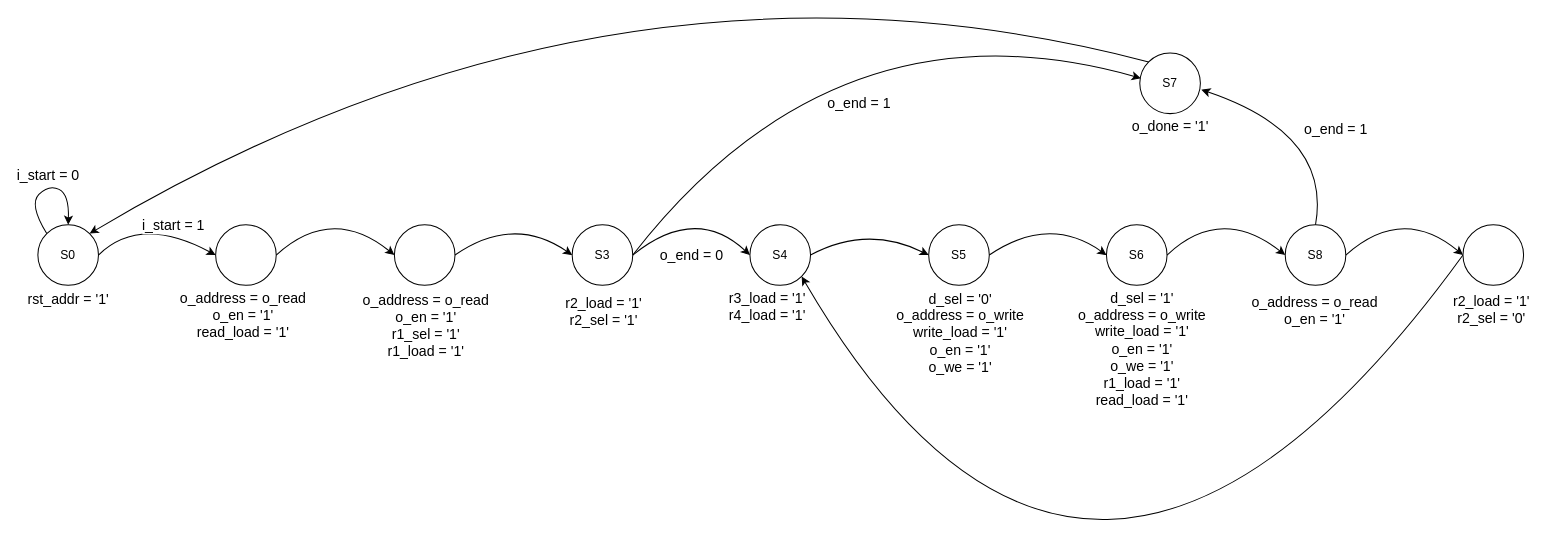
This 1554x537 diagram has some shape labels left out. The centre of each missing label's shape, as x and y in pixels:
S1: (245,254)
S2: (424,254)
S9: (1493,254)
